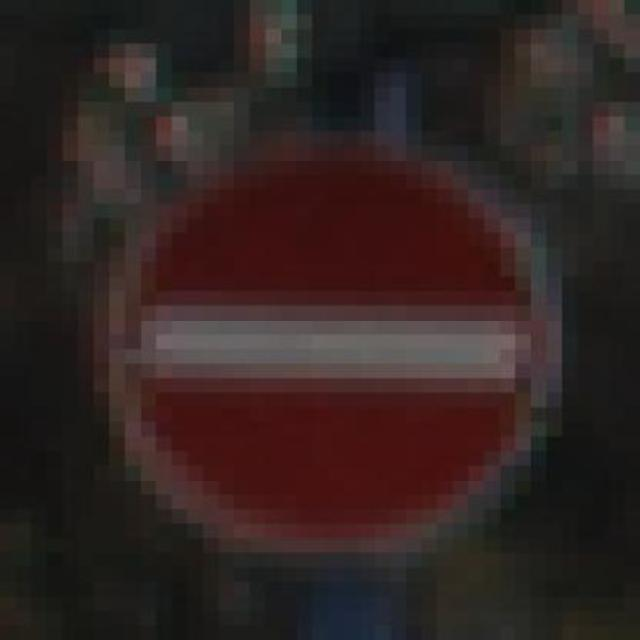No Entry: (62, 116, 593, 567)
